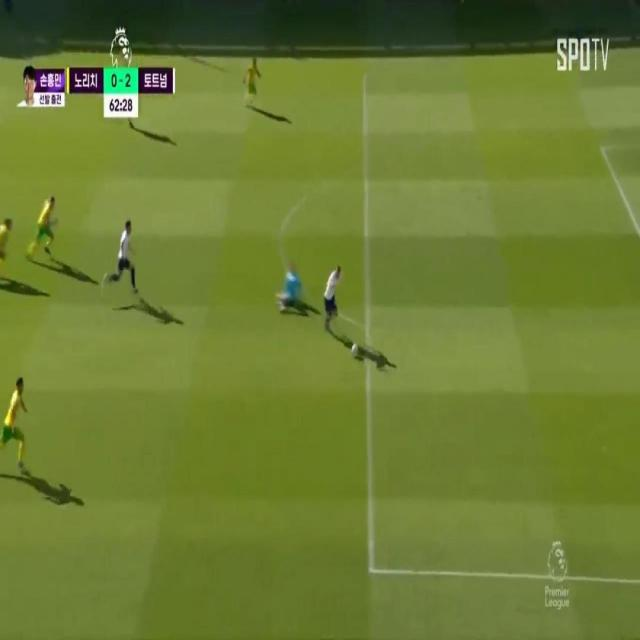ball: (351, 336, 360, 364)
goalkeeper: (275, 257, 307, 322)
player: (5, 376, 29, 459), (320, 254, 344, 336), (116, 215, 136, 295), (34, 191, 56, 258), (0, 204, 13, 268), (248, 54, 262, 106)
